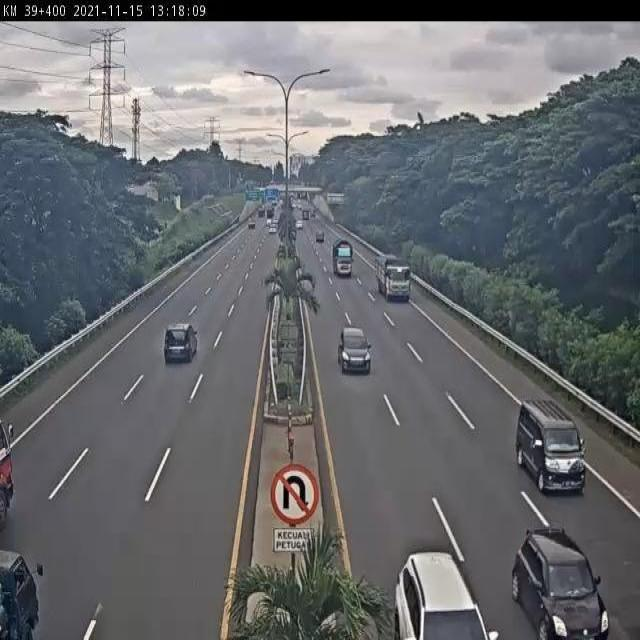Car: (512, 529, 609, 640), (391, 549, 498, 640), (336, 327, 374, 374), (165, 324, 199, 364), (295, 220, 304, 232), (268, 225, 277, 234)
Truck: (0, 545, 46, 640), (374, 253, 412, 303), (332, 238, 354, 278), (257, 202, 265, 216), (267, 205, 274, 218)
Van: (516, 396, 588, 495)
